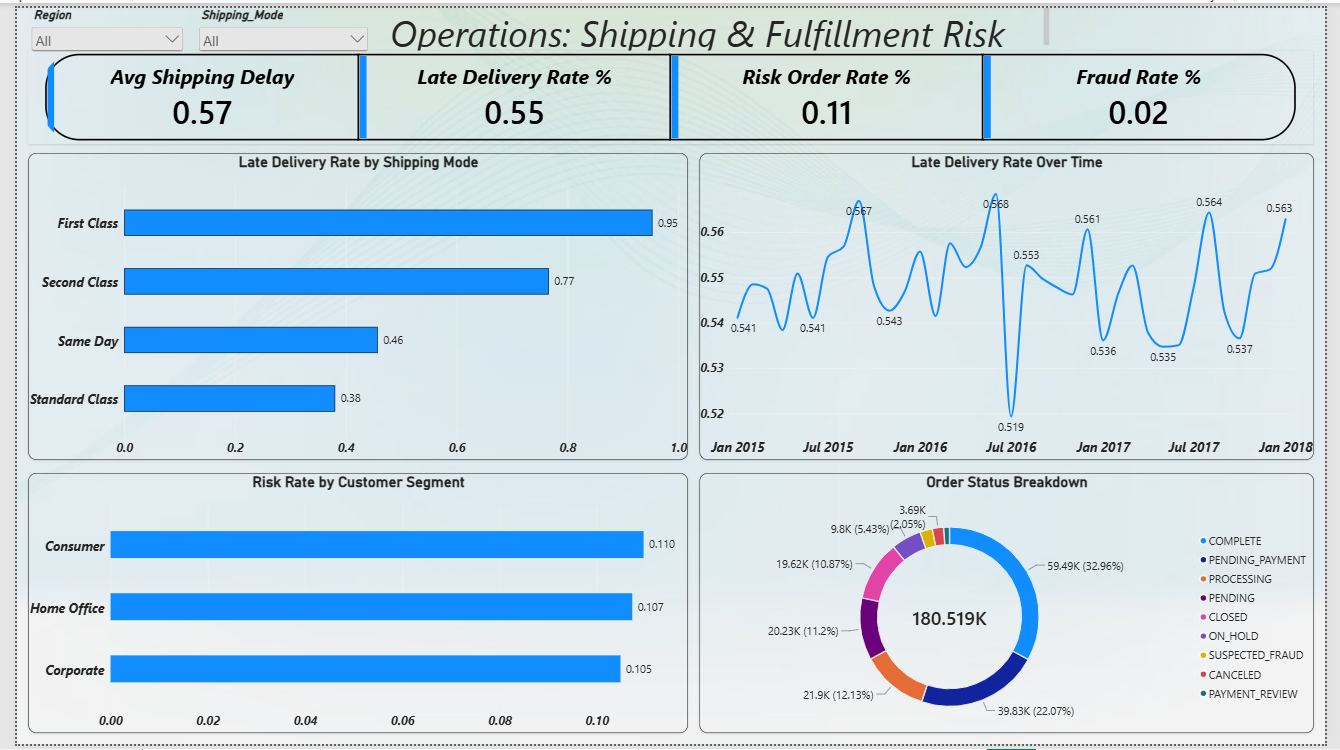

The dashboard page shown, as its layout file describes it:
{"tool":"powerbi","page":{"name":"Operations: Shipping & Fulfillment Risk","canvas":[1920,1080],"ordinal":1},"visuals":[{"type":"textbox","box":[546,0,968,62],"z":0},{"type":"clusteredBarChart","title":"Late Delivery Rate by Shipping Mode","fields":{"Category":["supply_chain dim_shipping_mode.Shipping_Mode"],"Y":["Table.Late Delivery Rate %"]},"box":[16.3,213.5,968.2,450.6],"z":1000},{"type":"lineChart","title":"Late Delivery Rate Over Time","fields":{"Y":["Table.Late Delivery Rate %"],"Category":["supply_chain dim_date.Date.Variation.Date Hierarchy.Year","supply_chain dim_date.Date.Variation.Date Hierarchy.Month"]},"box":[1000.7,213.5,901.2,450.6],"z":2000},{"type":"donutChart","title":"Order Status Breakdown","fields":{"Category":["supply_chain fact_orders.Order_Status"],"Y":["CountNonNull(supply_chain fact_orders.Order_ID)"]},"box":[1000.7,682.2,901.2,381.8],"z":3000},{"type":"cardVisual","fields":{"Data":["Table.Avg Shipping Delay","Table.Late Delivery Rate %","Table.Risk Order Rate %","Table.Fraud Rate %"]},"box":[16.5,62.4,1885.6,137.6],"z":4000},{"type":"barChart","title":"Risk Rate by Customer Segment","fields":{"Y":["Table.Risk Order Rate %"],"Category":["supply_chain dim_customers.Segment"]},"box":[16.3,682.2,968.2,381.8],"z":5000},{"type":"slicer","fields":{"Values":["supply_chain dim_locations.Region"]},"box":[16,0,232,84],"z":6000},{"type":"slicer","fields":{"Values":["supply_chain dim_shipping_mode.Shipping_Mode"]},"box":[262,0,258,74],"z":8000}]}

Visuals, with their boxes in screenshot pixels (x1, y1, x2, y2), scaled from the page's 1920x1080 canvas onto the 1340x750 screenshot:
textbox: crop(381, 0, 1057, 43)
"Late Delivery Rate by Shipping Mode" clusteredBarChart: crop(11, 148, 687, 461)
"Late Delivery Rate Over Time" lineChart: crop(698, 148, 1327, 461)
"Order Status Breakdown" donutChart: crop(698, 474, 1327, 739)
cardVisual - Table.Avg Shipping Delay x Table.Late Delivery Rate %: crop(12, 43, 1328, 139)
"Risk Rate by Customer Segment" barChart: crop(11, 474, 687, 739)
slicer - supply_chain dim_locations.Region: crop(11, 0, 173, 58)
slicer - supply_chain dim_shipping_mode.Shipping_Mode: crop(183, 0, 363, 51)
